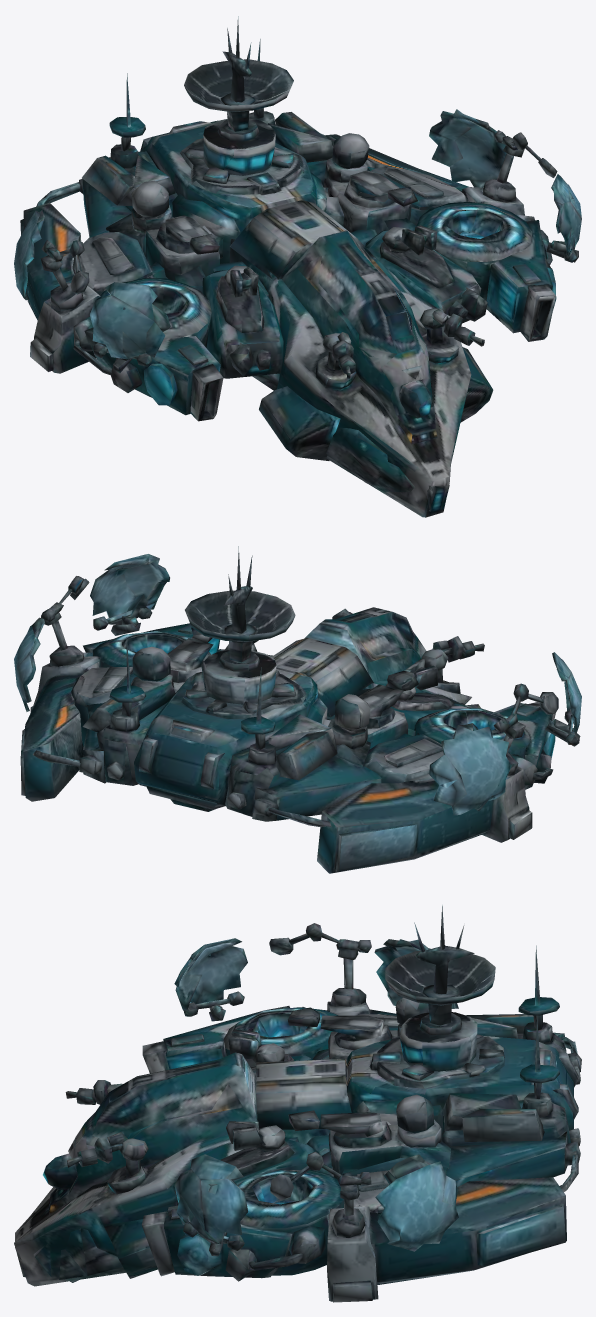
The model's file is praetorian.glb.
3 renders of one model, top to bottom at view 1: azimuth 30°, elevation 25°; view 2: azimuth 150°, elevation 25°; view 3: azimuth 270°, elevation 25°, orthographic. The views are drawn at different scales.
Size of the model in its own units: 1 by 0.7109 by 0.9648.
1 material, 1 textured.
